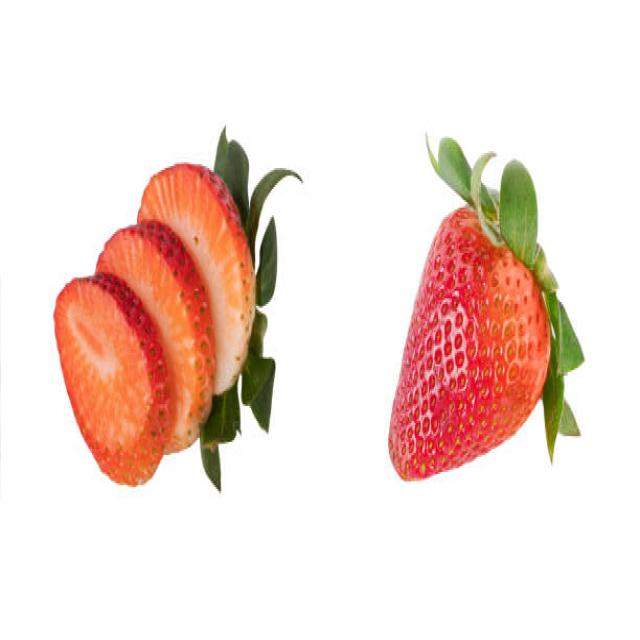Healthy Fruit: (386, 203, 551, 480)
